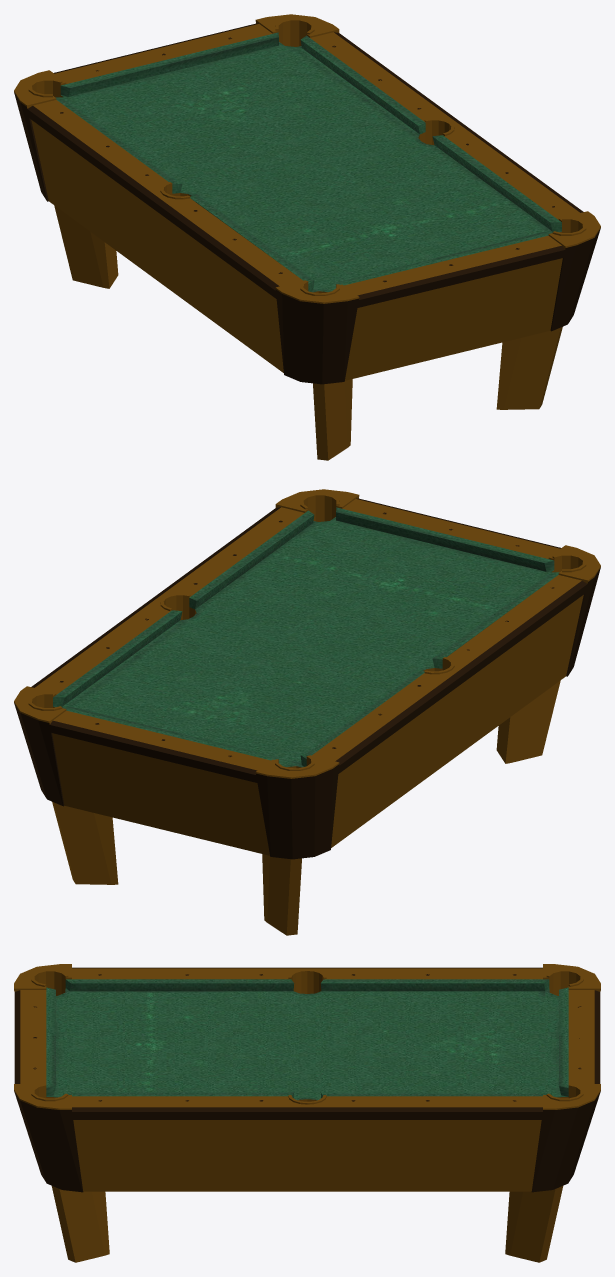
The model's file is pooltable.dae.
The picture shows the model from 3 angles, top to bottom: view 1: azimuth 30°, elevation 25°; view 2: azimuth 150°, elevation 25°; view 3: azimuth 270°, elevation 25°; orthographic projection. The views are drawn at different scales.
Visible parts, largest first — view 1: _1_filzmatte, _4_seitenflaechen, _6_holztop, _5_rahmen, _2_beine; view 2: _1_filzmatte, _4_seitenflaechen, _6_holztop, _5_rahmen, _2_beine; view 3: _1_filzmatte, _4_seitenflaechen, _6_holztop, _5_rahmen, _2_beine.
Boxes of the visible parts, x1=… form: _1_filzmatte: x1=55, y1=32, x2=561, y2=292; _4_seitenflaechen: x1=31, y1=120, x2=562, y2=380; _6_holztop: x1=14, y1=14, x2=600, y2=303; _5_rahmen: x1=14, y1=23, x2=600, y2=384; _2_beine: x1=54, y1=205, x2=562, y2=460; _1_filzmatte: x1=53, y1=507, x2=559, y2=767; _4_seitenflaechen: x1=52, y1=595, x2=583, y2=855; _6_holztop: x1=14, y1=489, x2=600, y2=778; _5_rahmen: x1=14, y1=498, x2=600, y2=859; _2_beine: x1=52, y1=680, x2=560, y2=935; _1_filzmatte: x1=46, y1=979, x2=568, y2=1100; _4_seitenflaechen: x1=73, y1=979, x2=541, y2=1191; _6_holztop: x1=14, y1=964, x2=600, y2=1109; _5_rahmen: x1=14, y1=967, x2=600, y2=1192; _2_beine: x1=51, y1=1186, x2=563, y2=1262.
Size of what is drawn, in the model's own units: 33.65 by 19.11 by 57.78.
Materials: 3 (1 with a texture image).
